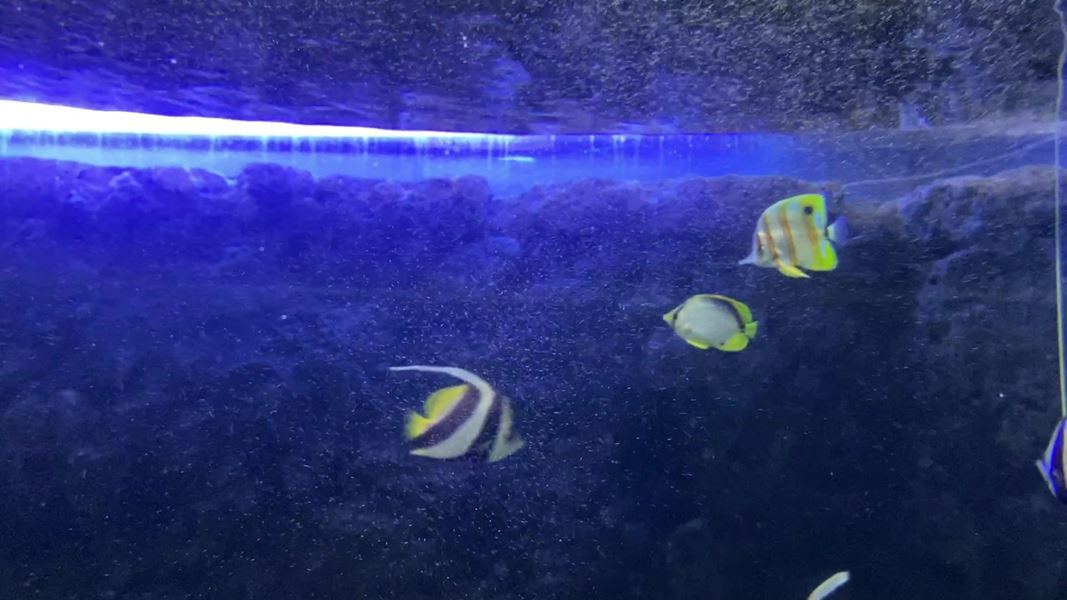Black-backed butterflyfish: (656, 290, 776, 362)
